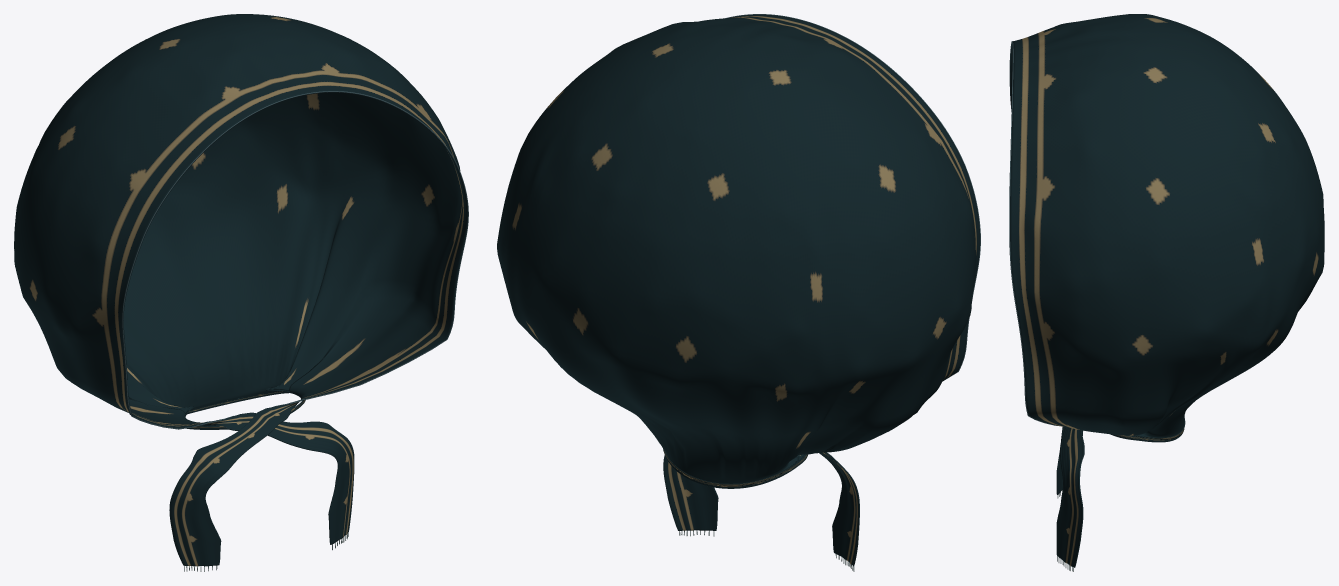
The model's file is Masculine-afro-buttonup-pashmina249-headgear.glb.
3 renders of one model, left to right at view 1: azimuth 30°, elevation 25°; view 2: azimuth 150°, elevation 25°; view 3: azimuth 270°, elevation 25°, orthographic. The views are drawn at different scales.
Visible parts, largest first — view 1: 226 headgear / Headwear / continuous woven pashmina239, 226 headgear / Headwear / face edge239; view 2: 226 headgear / Headwear / continuous woven pashmina239, 226 headgear / Headwear / face edge239; view 3: 226 headgear / Headwear / continuous woven pashmina239, 226 headgear / Headwear / face edge239.
Boxes of the visible parts, x1,y1,x2,y2 form: 226 headgear / Headwear / continuous woven pashmina239: [14, 14, 467, 566]; 226 headgear / Headwear / face edge239: [122, 91, 468, 429]; 226 headgear / Headwear / continuous woven pashmina239: [497, 14, 980, 566]; 226 headgear / Headwear / face edge239: [725, 14, 980, 380]; 226 headgear / Headwear / continuous woven pashmina239: [1010, 14, 1324, 567]; 226 headgear / Headwear / face edge239: [1009, 41, 1057, 425].
Bounding box in the file's own units: 1.24 × 1.5 × 0.8609.
Materials: 3 (1 with a texture image).
